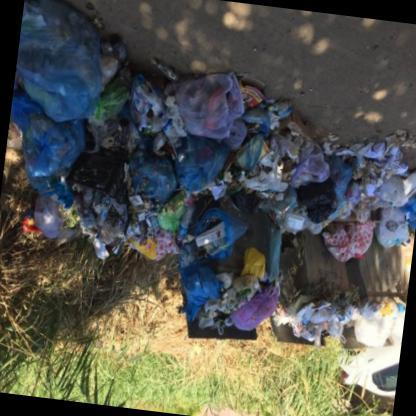Garbage: (0, 0, 205, 259), (116, 52, 315, 244), (255, 117, 415, 250), (170, 195, 284, 326), (275, 292, 351, 343), (345, 294, 405, 342)
